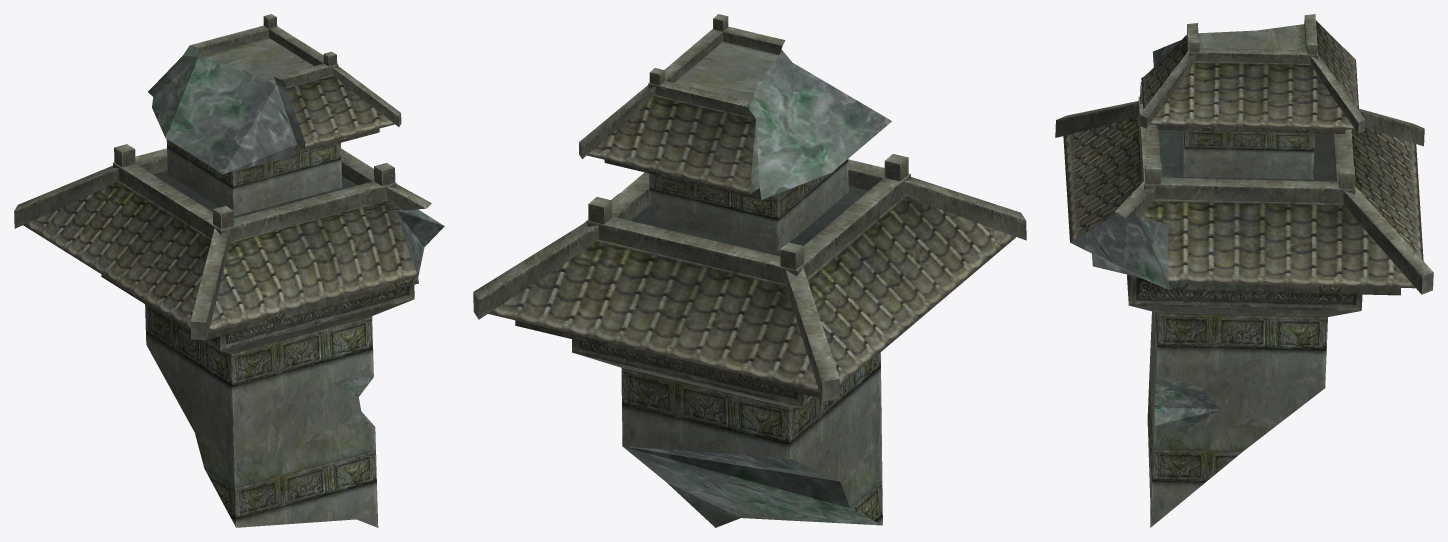
The model's file is shizhu_ly_62.FBX.
The picture shows the model from 3 angles, left to right: view 1: azimuth 30°, elevation 25°; view 2: azimuth 150°, elevation 25°; view 3: azimuth 270°, elevation 25°; orthographic projection. The views are drawn at different scales.
Parts seen in each view (by area): view 1: shizhu_ly_62; view 2: shizhu_ly_62; view 3: shizhu_ly_62.
Part boxes in pixels (bbox=[...]): shizhu_ly_62: bbox=[14, 14, 444, 527]; shizhu_ly_62: bbox=[473, 14, 1026, 527]; shizhu_ly_62: bbox=[1055, 14, 1433, 527].
Size of what is drawn, in the model's own units: 369 by 524 by 378.
